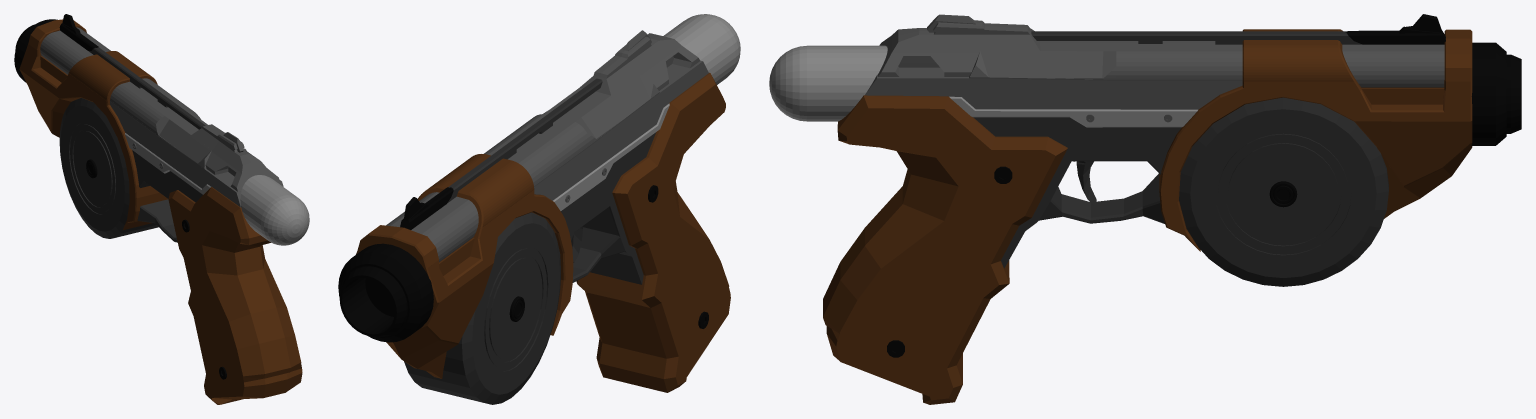
Rendered from GrappleGun.fbx.
The picture shows the model from 3 angles, left to right: view 1: azimuth 30°, elevation 25°; view 2: azimuth 150°, elevation 25°; view 3: azimuth 270°, elevation 25°; orthographic projection. The views are drawn at different scales.
Parts seen in each view (by area): view 1: Grapple Gun Model; view 2: Grapple Gun Model; view 3: Grapple Gun Model.
Boxes of the visible parts, x1,y1,x2,y2 form: Grapple Gun Model: (14,14,309,404); Grapple Gun Model: (338,14,740,404); Grapple Gun Model: (769,14,1521,404).
Bounding box in the file's own units: 96.31 × 344 × 627.
Materials: 1 (1 with a texture image).
